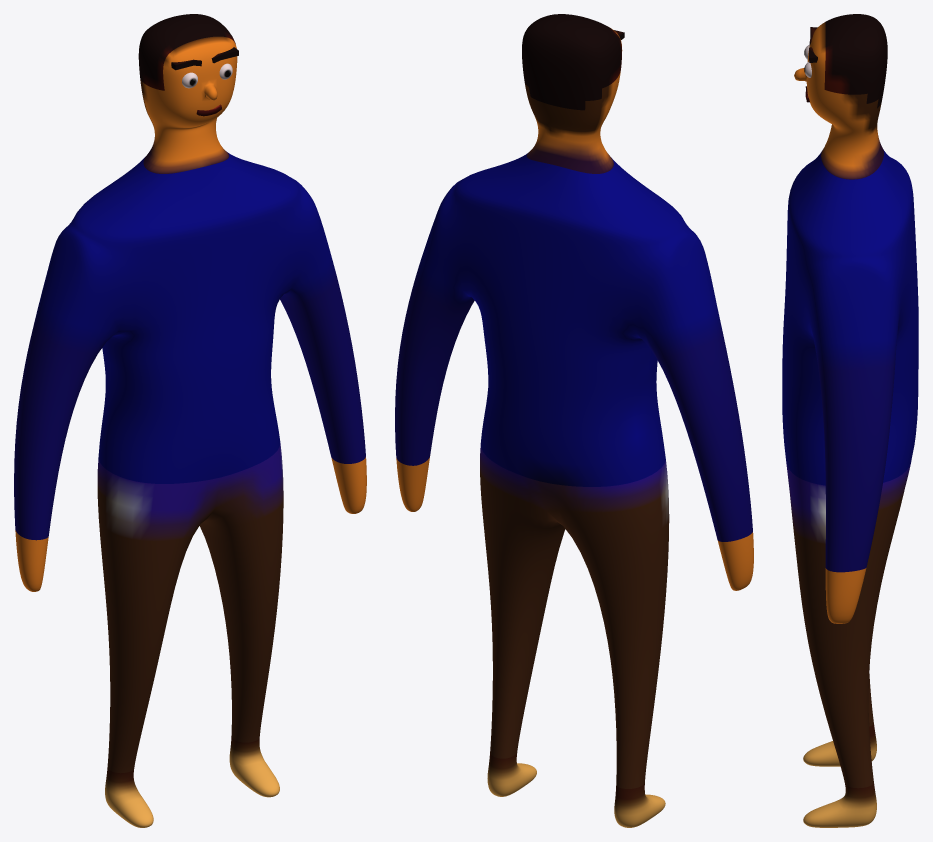
File: Barman.fbx
3 views of the same model, side by side, from view 1: azimuth 30°, elevation 25°; view 2: azimuth 150°, elevation 25°; view 3: azimuth 270°, elevation 25° (orthographic). The views are drawn at different scales.
Visible parts, largest first — view 1: body; view 2: body; view 3: body.
Boxes of the visible parts, x1,y1,x2,y2 form: body: (14,14,366,827); body: (395,14,753,827); body: (782,14,918,827).
Bounding box in the file's own units: 459 × 989 × 158.
